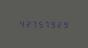five: (35, 19, 40, 27)
four: (17, 19, 22, 27)
nine: (47, 20, 52, 28), (59, 20, 64, 28)
seven: (41, 19, 46, 28), (29, 19, 34, 27)
two: (23, 19, 28, 27), (53, 20, 58, 28)
